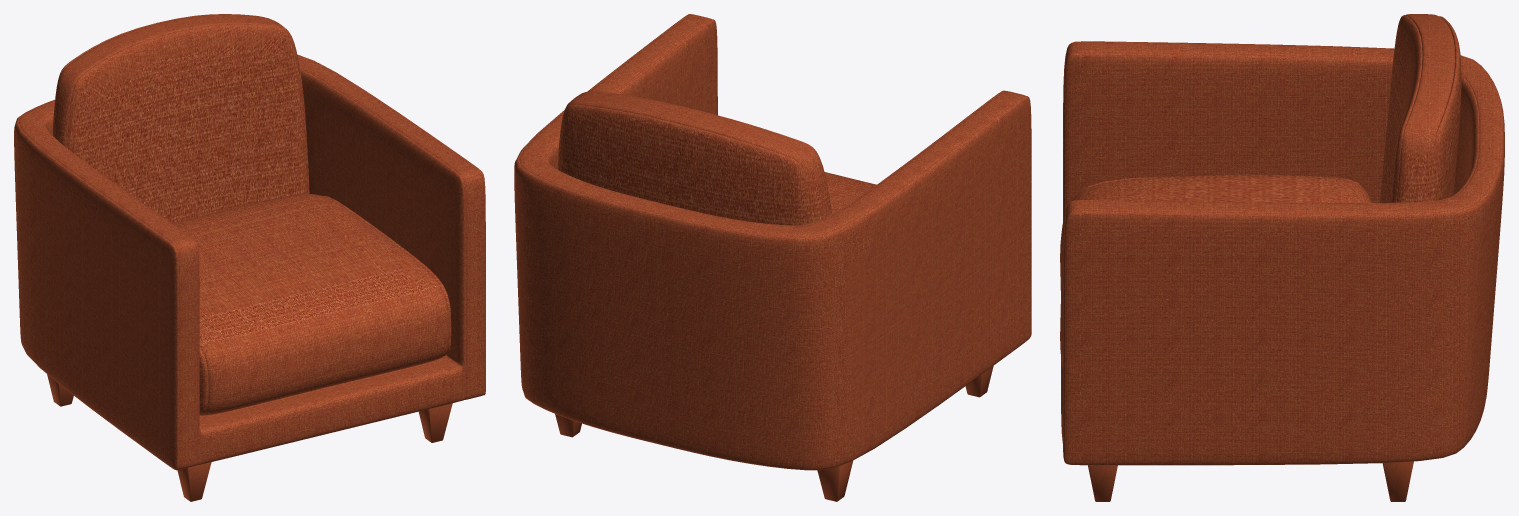
Rendered from armchair_01.obj.
The picture shows the model from 3 angles, left to right: view 1: azimuth 30°, elevation 25°; view 2: azimuth 150°, elevation 25°; view 3: azimuth 270°, elevation 25°; orthographic projection. The views are drawn at different scales.
Bounding box in the file's own units: 704 × 715 × 760.
Materials: 1 (1 with a texture image).
